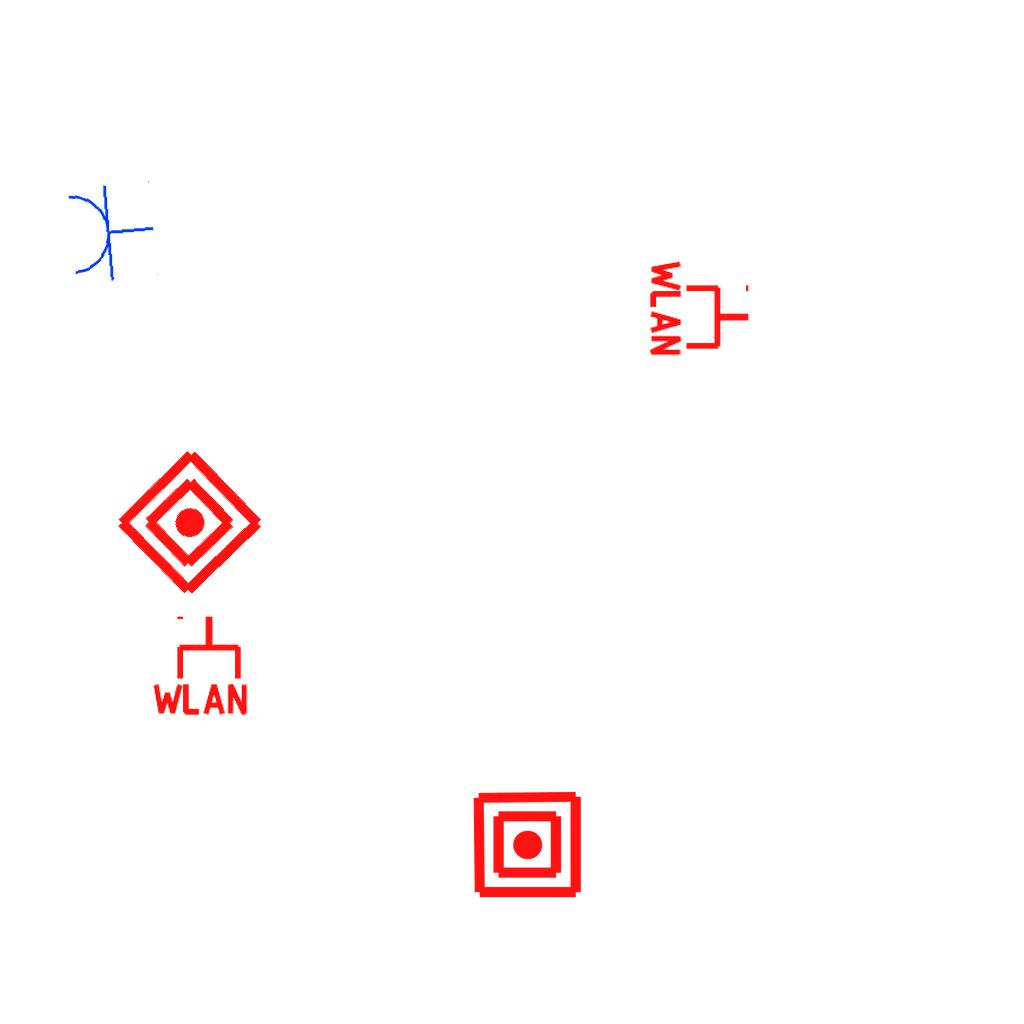NAM-Nichtautomatischer_Melder: (109, 442, 270, 603), (471, 788, 584, 901)
Schukosteckdose_einfach: (63, 177, 159, 286)
WLAN: (148, 612, 252, 717), (648, 256, 753, 360)
